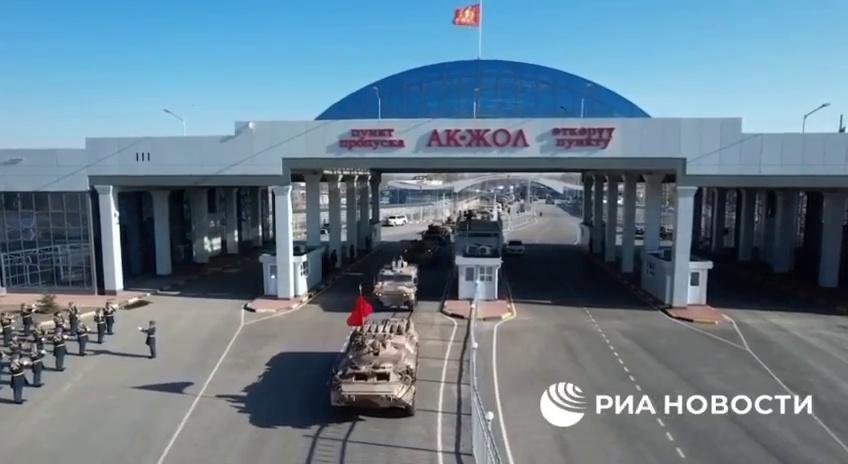armored_car: (370, 260, 421, 312)
car: (384, 214, 409, 226)
person: (7, 354, 33, 404), (136, 319, 158, 359), (51, 328, 69, 371), (19, 303, 39, 338), (28, 346, 45, 387), (0, 311, 16, 346), (31, 322, 48, 353), (76, 319, 90, 356), (102, 302, 116, 336), (94, 307, 106, 344), (68, 302, 81, 336), (8, 332, 26, 356), (52, 310, 66, 334)
tank: (330, 317, 420, 420), (394, 237, 439, 266), (421, 221, 451, 246)
